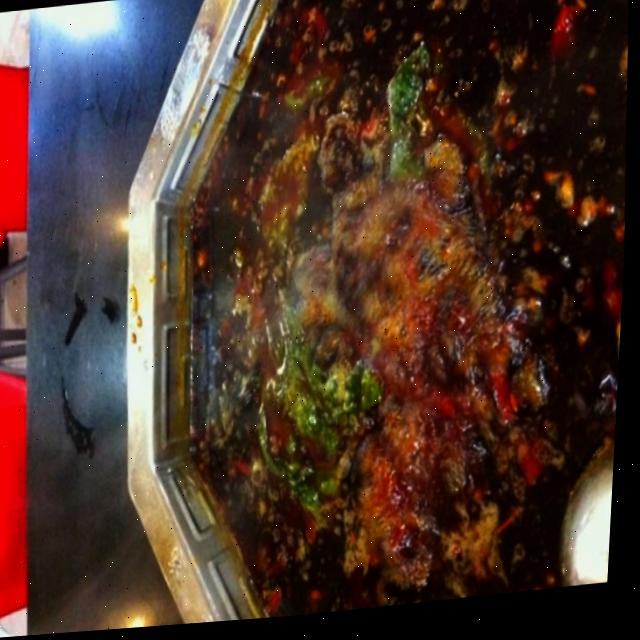汤锅炖物: (71, 0, 640, 634)
